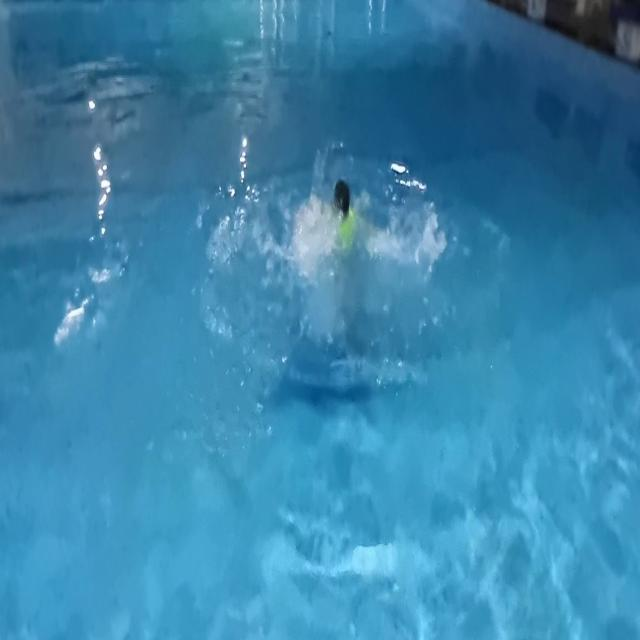Drowning: (257, 138, 439, 358)
